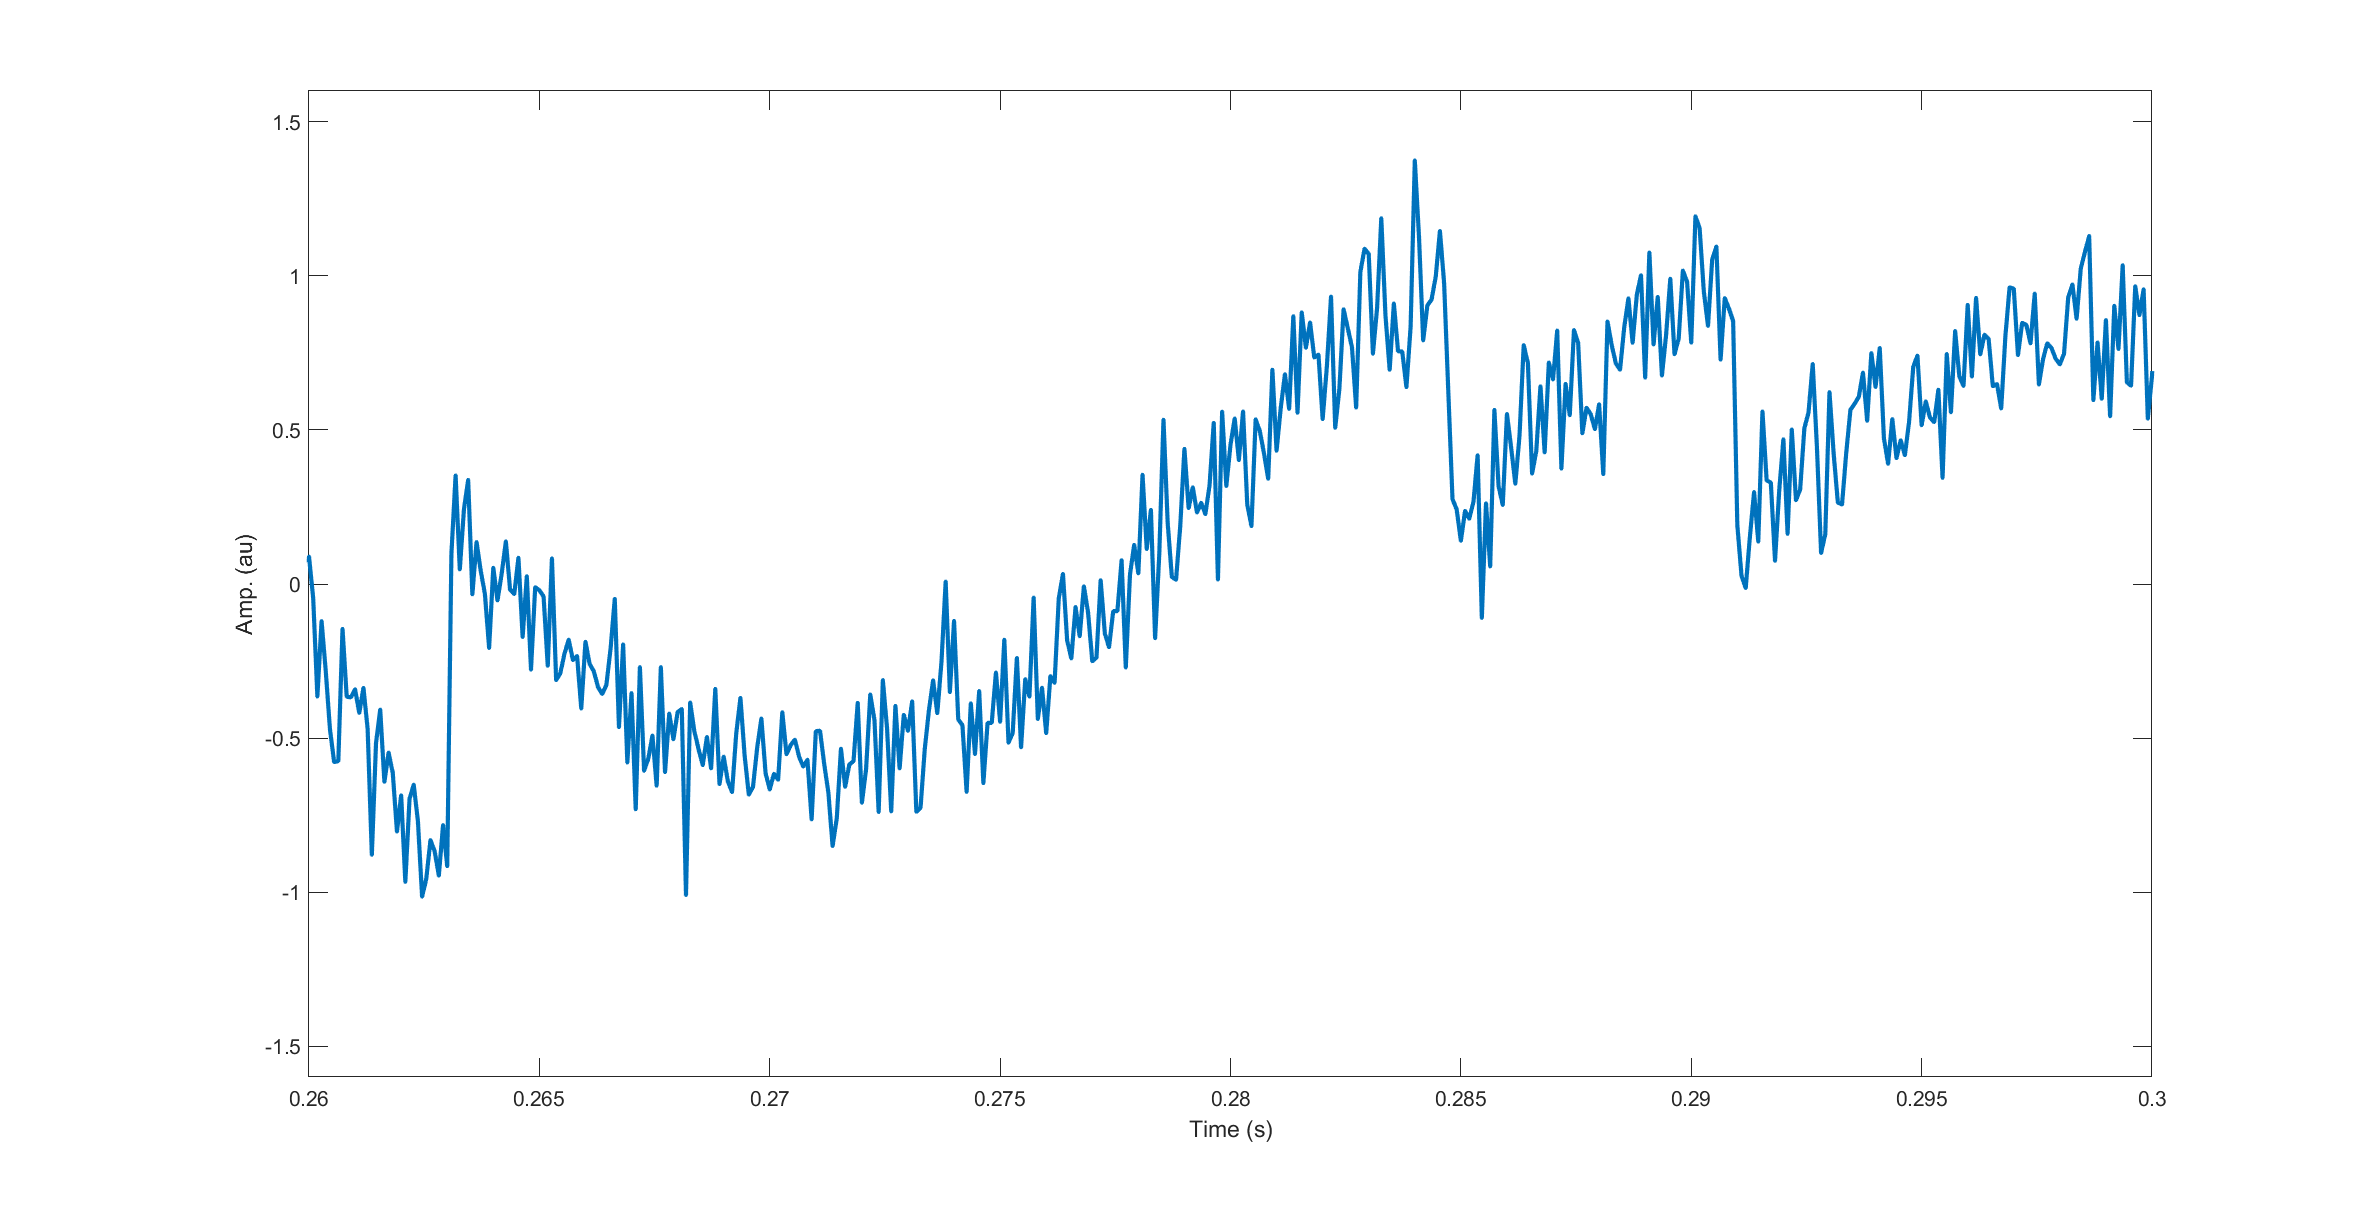negative_fringe: (438, 463, 610, 898)
positive_fringe: (1475, 199, 1750, 603), (1255, 144, 1463, 536)
